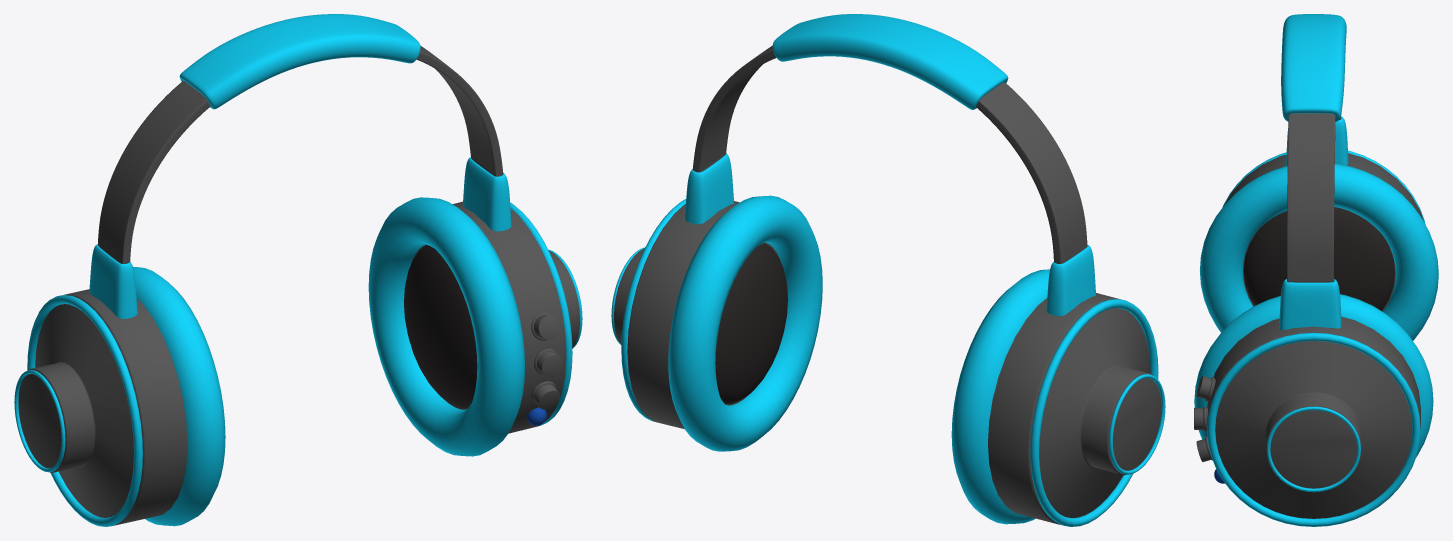
File: headphone.glb
3 renders of one model, left to right at view 1: azimuth 30°, elevation 25°; view 2: azimuth 150°, elevation 25°; view 3: azimuth 270°, elevation 25°, orthographic. The views are drawn at different scales.
Visible parts, largest first — view 1: HEADSET, BezierCircle, Circle.002, Sphere, BezierCircle.001, Circle.001, BezierCircle.002; view 2: HEADSET, BezierCircle, Circle.002, Sphere, BezierCircle.001, Circle.001, BezierCircle.002; view 3: HEADSET, BezierCircle, Sphere, Circle.002, BezierCircle.001, Circle.001, BezierCircle.002.
Boxes of the visible parts, left/top/right/bottom form: HEADSET: left=18, top=45, right=579, bottom=525; BezierCircle: left=133, top=197, right=524, bottom=526; Circle.002: left=179, top=14, right=420, bottom=109; Sphere: left=404, top=245, right=477, bottom=408; BezierCircle.001: left=27, top=202, right=572, bottom=526; Circle.001: left=89, top=157, right=511, bottom=318; BezierCircle.002: left=14, top=249, right=582, bottom=472; HEADSET: left=614, top=45, right=1161, bottom=524; BezierCircle: left=668, top=195, right=1049, bottom=524; Circle.002: left=772, top=14, right=1008, bottom=109; Sphere: left=715, top=243, right=787, bottom=404; BezierCircle.001: left=621, top=199, right=1158, bottom=526; Circle.001: left=685, top=153, right=1095, bottom=315; BezierCircle.002: left=611, top=247, right=1165, bottom=474; HEADSET: left=1194, top=113, right=1423, bottom=518; BezierCircle: left=1194, top=163, right=1438, bottom=457; Sphere: left=1243, top=207, right=1394, bottom=310; Circle.002: left=1281, top=14, right=1346, bottom=121; BezierCircle.001: left=1207, top=150, right=1425, bottom=526; Circle.001: left=1279, top=116, right=1348, bottom=330; BezierCircle.002: left=1266, top=406, right=1360, bottom=492.
Bounding box in the file's own units: 5.01 × 4.22 × 2.29.
Materials: 7 (6 with a texture image).
